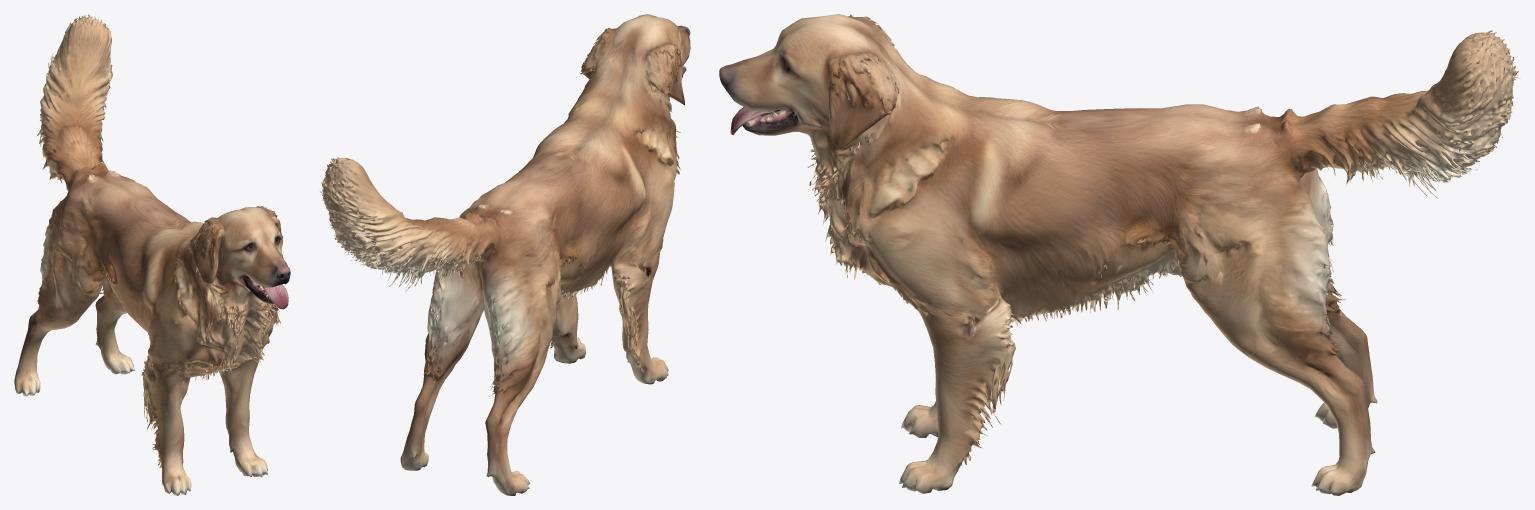
The model's file is golden_retriever.glb.
3 views of the same model, side by side, from view 1: azimuth 30°, elevation 25°; view 2: azimuth 150°, elevation 25°; view 3: azimuth 270°, elevation 25° (orthographic). The views are drawn at different scales.
Visible parts, largest first — view 1: golden_retriever; view 2: golden_retriever; view 3: golden_retriever.
Part boxes in pixels (bbox=[...]): golden_retriever: bbox=[14, 14, 290, 495]; golden_retriever: bbox=[319, 14, 690, 495]; golden_retriever: bbox=[719, 14, 1520, 495].
Bounding box in the file's own units: 0.5745 × 1.23 × 1.9.
1 material, 1 textured.
